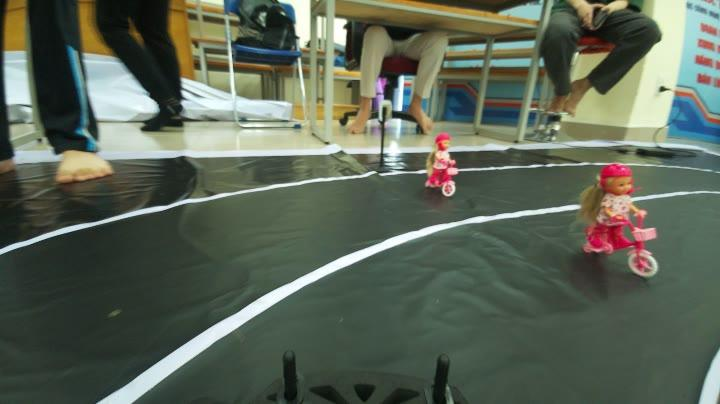pedestrian: (574, 160, 668, 277), (414, 127, 468, 198)
